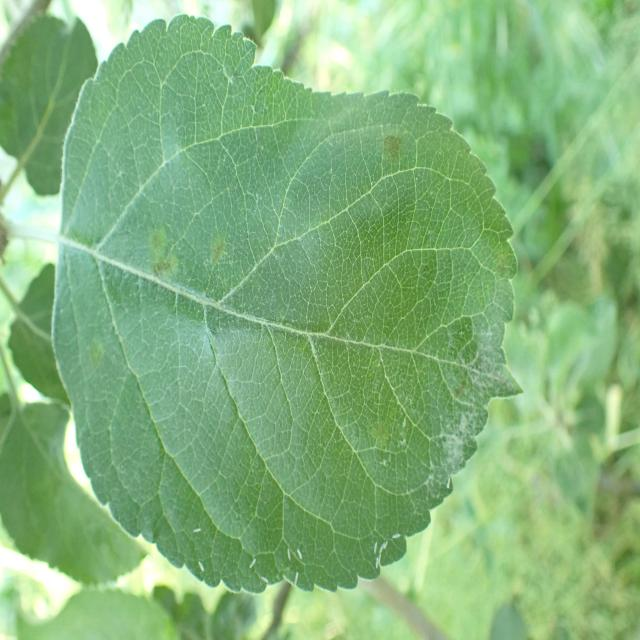scab: (130, 200, 242, 291), (375, 103, 412, 185)
